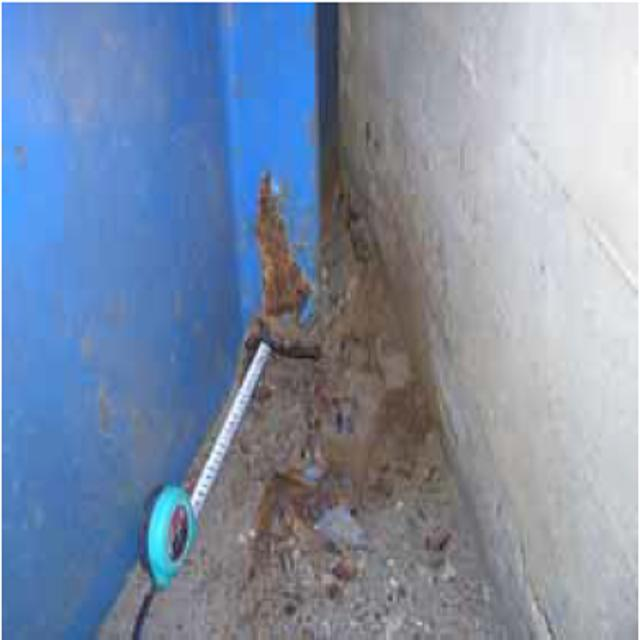corrosion: (224, 139, 323, 377)
